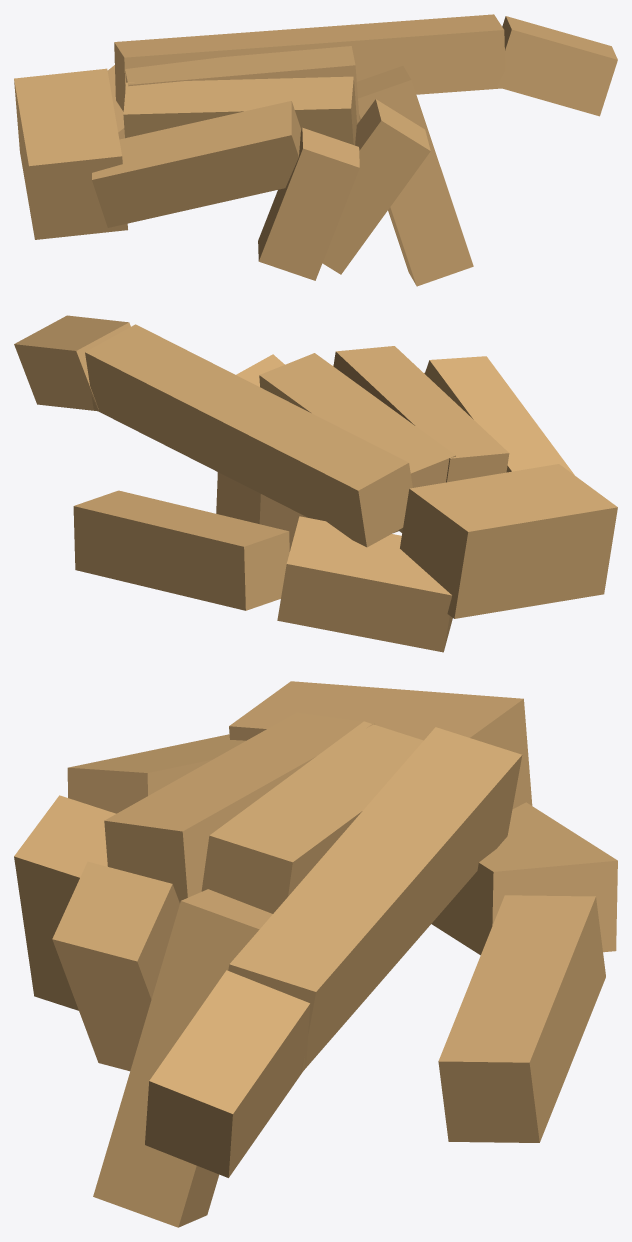
The picture shows the model from 3 angles, top to bottom: view 1: azimuth 30°, elevation 25°; view 2: azimuth 150°, elevation 25°; view 3: azimuth 270°, elevation 25°; orthographic projection. The views are drawn at different scales.
Visible parts, largest first — view 1: node_MeshObject-934675904-PolyPaper18; view 2: node_MeshObject-934675904-PolyPaper18; view 3: node_MeshObject-934675904-PolyPaper18.
Boxes of the visible parts, left/top/right/bottom form: node_MeshObject-934675904-PolyPaper18: left=14, top=14, right=617, bottom=286; node_MeshObject-934675904-PolyPaper18: left=14, top=315, right=617, bottom=652; node_MeshObject-934675904-PolyPaper18: left=14, top=681, right=617, bottom=1227.
Size of the model in its own units: 0.3375 by 0.1254 by 0.2018.
